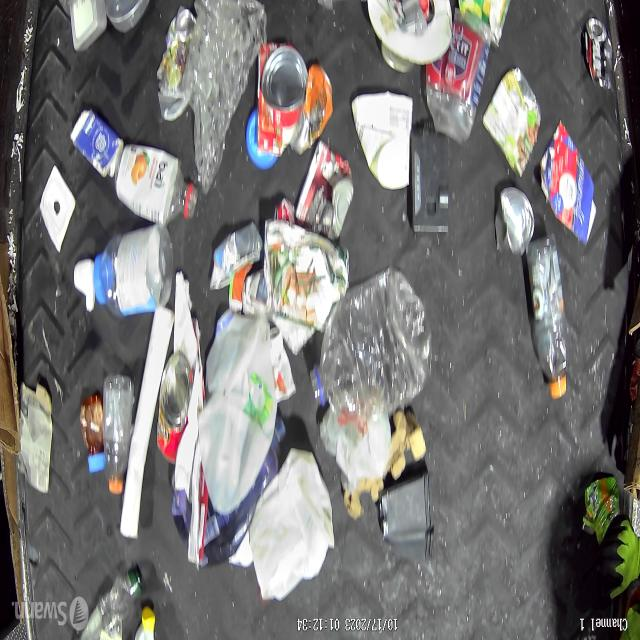can: (254, 42, 306, 160), (296, 143, 354, 239), (157, 9, 197, 122), (157, 352, 193, 467), (290, 64, 332, 157), (497, 184, 533, 257), (580, 17, 612, 90)
milk_jug: (199, 315, 280, 515), (250, 445, 333, 602)
plastic_bottle: (313, 270, 430, 412), (527, 239, 569, 404), (75, 569, 141, 640), (102, 376, 134, 494)
